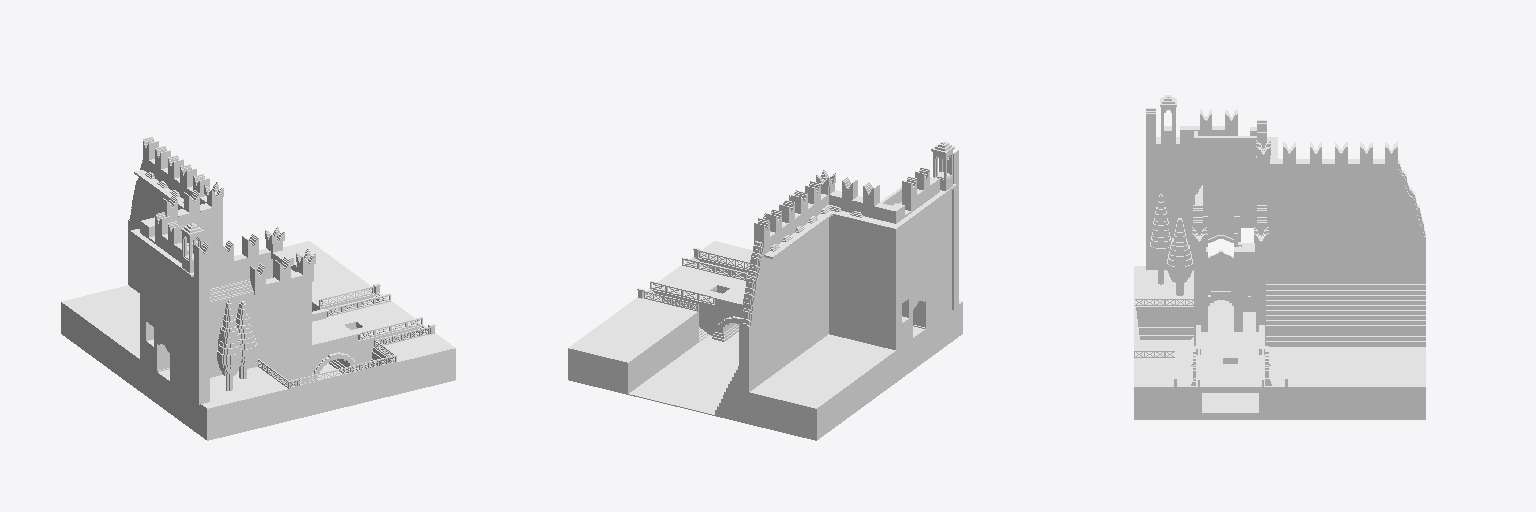
The model's file is castelloVillafranca.obj.
3 renders of one model, left to right at view 1: azimuth 30°, elevation 25°; view 2: azimuth 150°, elevation 25°; view 3: azimuth 270°, elevation 25°, orthographic.
Parts seen in each view (by area): view 1: object 1; view 2: object 1; view 3: object 1.
Part boxes in pixels (left/top/right/bottom): object 1: left=61, top=137, right=455, bottom=440; object 1: left=568, top=142, right=962, bottom=440; object 1: left=1134, top=95, right=1425, bottom=419.
Bounding box in the file's own units: 25.6 × 19.6 × 25.6.